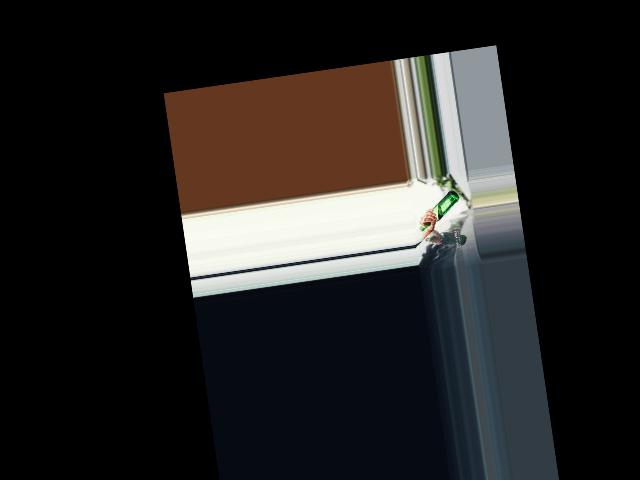beer: (415, 190, 463, 232)
